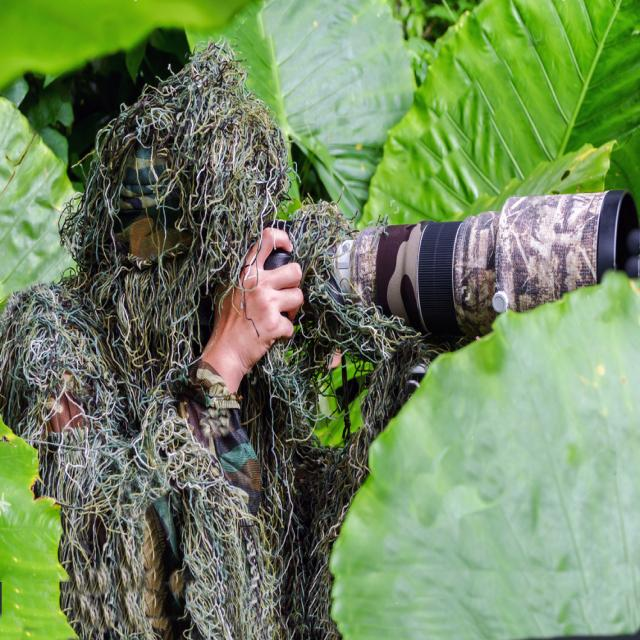Human: (2, 36, 631, 623)
